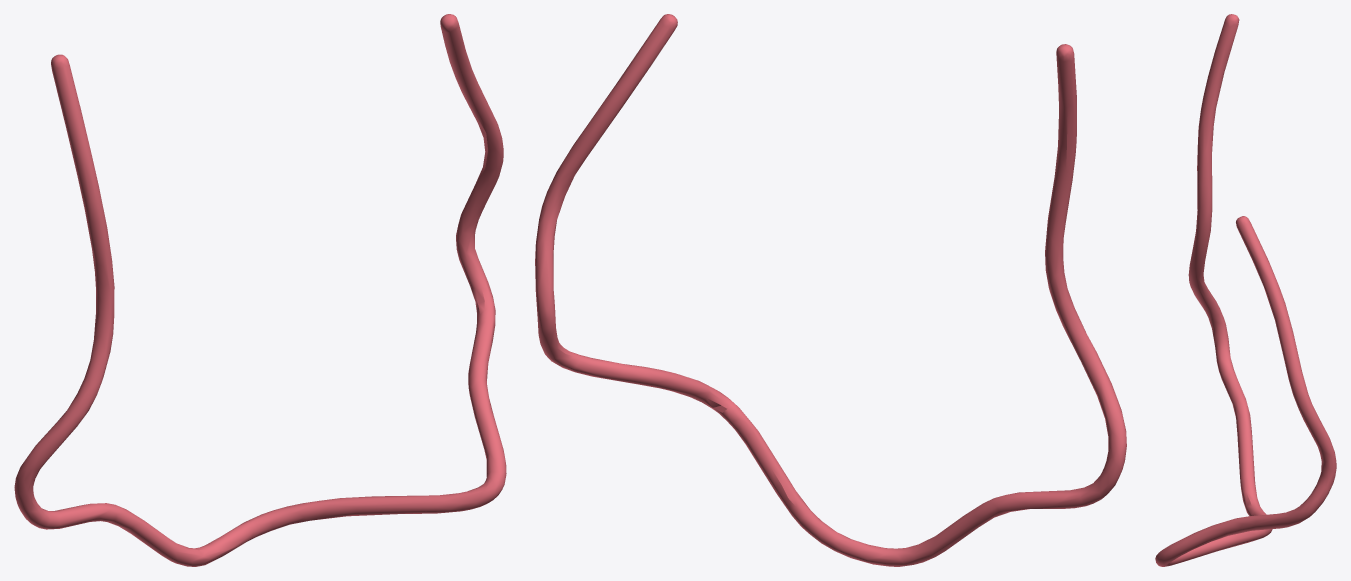
File: fma22913_fj2229.glb
3 renders of one model, left to right at view 1: azimuth 30°, elevation 25°; view 2: azimuth 150°, elevation 25°; view 3: azimuth 270°, elevation 25°, orthographic. The views are drawn at different scales.
Visible parts, largest first — view 1: FMA22913_FJ2229; view 2: FMA22913_FJ2229; view 3: FMA22913_FJ2229.
Boxes of the visible parts, x1,y1,x2,y2 form: FMA22913_FJ2229: (14, 14, 506, 566); FMA22913_FJ2229: (535, 14, 1126, 566); FMA22913_FJ2229: (1155, 14, 1336, 566).
Bounding box in the file's own units: 0.049 × 0.0484 × 0.0179.
